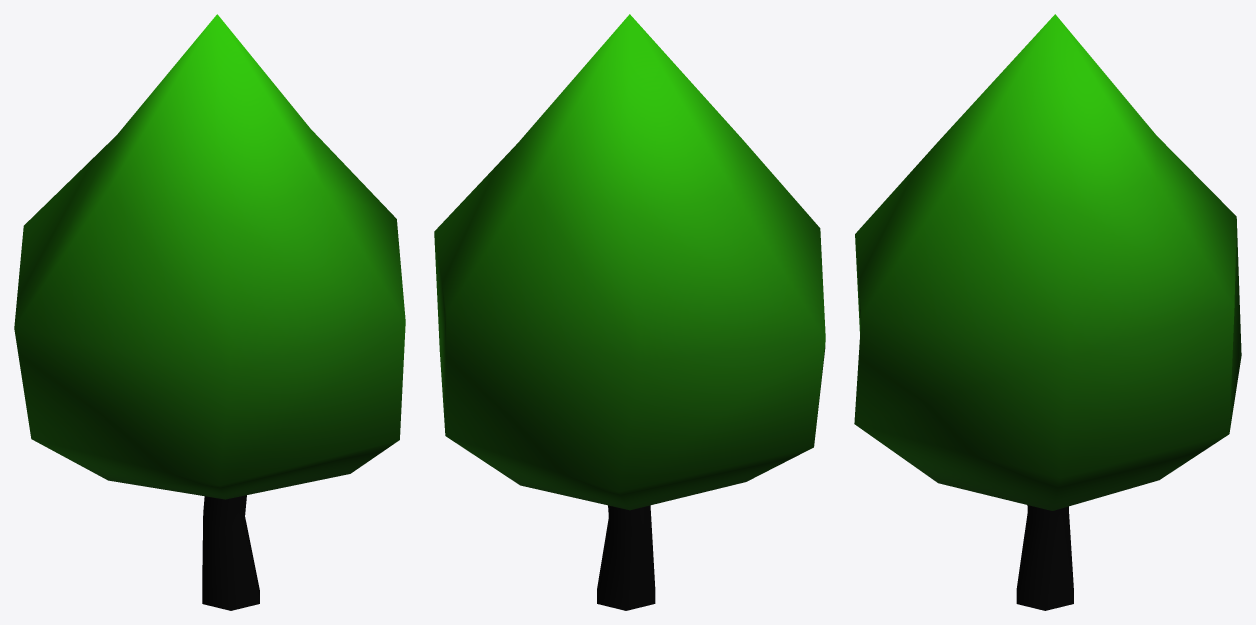
Rendered from Universal_Plant_Tree_06_Mod.fbx.
The picture shows the model from 3 angles, left to right: view 1: azimuth 30°, elevation 25°; view 2: azimuth 150°, elevation 25°; view 3: azimuth 270°, elevation 25°; orthographic projection.
Parts seen in each view (by area): view 1: Universal_Plant_Tree_06_Mod; view 2: Universal_Plant_Tree_06_Mod; view 3: Universal_Plant_Tree_06_Mod.
Boxes of the visible parts, left/top/right/bottom form: Universal_Plant_Tree_06_Mod: left=14, top=14, right=405, bottom=610; Universal_Plant_Tree_06_Mod: left=434, top=14, right=825, bottom=610; Universal_Plant_Tree_06_Mod: left=854, top=14, right=1241, bottom=610.
Bounding box in the file's own units: 348 × 502 × 304.
